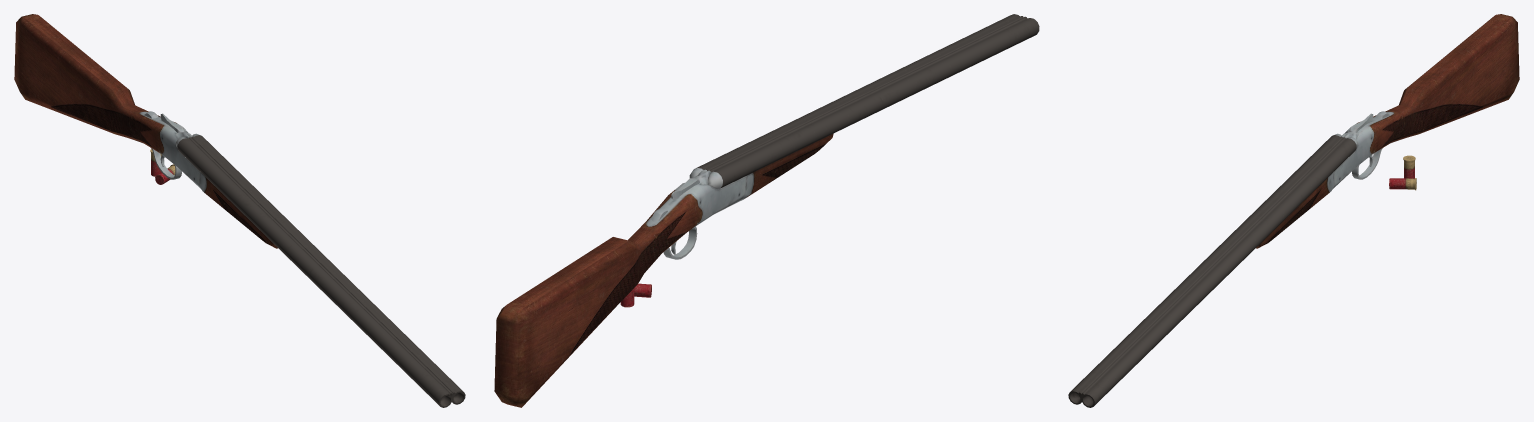
File: double_barrel.glb
The picture shows the model from 3 angles, left to right: view 1: azimuth 30°, elevation 25°; view 2: azimuth 150°, elevation 25°; view 3: azimuth 330°, elevation 25°; orthographic projection. The views are drawn at different scales.
Visible parts, largest first — view 1: pasted__base, pasted__barrel, pasted__base_upper; view 2: pasted__base, pasted__barrel, pasted__base_upper; view 3: pasted__base, pasted__barrel, pasted__base_upper.
Boxes of the visible parts, x1,y1,x2,y2 form: pasted__base: (14,14,200,188); pasted__barrel: (177,135,465,407); pasted__base_upper: (199,172,277,248); pasted__base: (494,168,746,407); pasted__barrel: (696,14,1039,187); pasted__base_upper: (737,133,833,202); pasted__base: (1333,14,1519,188); pasted__barrel: (1068,135,1356,407); pasted__base_upper: (1256,172,1334,248).
Bounding box in the file's own units: 0.0491 × 0.0877 × 0.831.
Materials: 2 (2 with a texture image).
